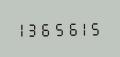five: (89, 19, 100, 36), (53, 20, 64, 36)
one: (17, 20, 28, 37), (77, 19, 88, 36)
six: (41, 20, 52, 37), (65, 19, 76, 36)
three: (29, 20, 40, 37)
